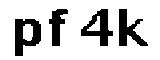4: (78, 6, 114, 49)
f: (48, 7, 71, 50)
k: (117, 6, 149, 50)
p: (11, 17, 43, 60)
